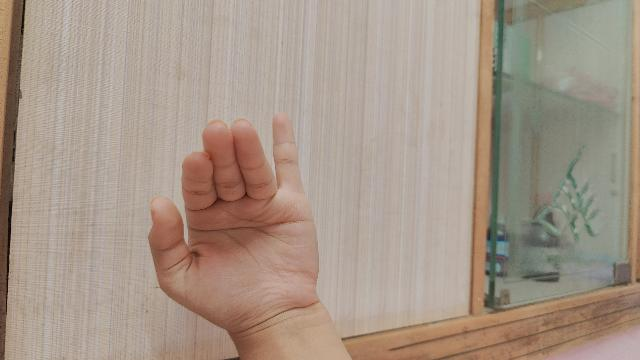Hamsapaksha: (147, 116, 354, 360)
